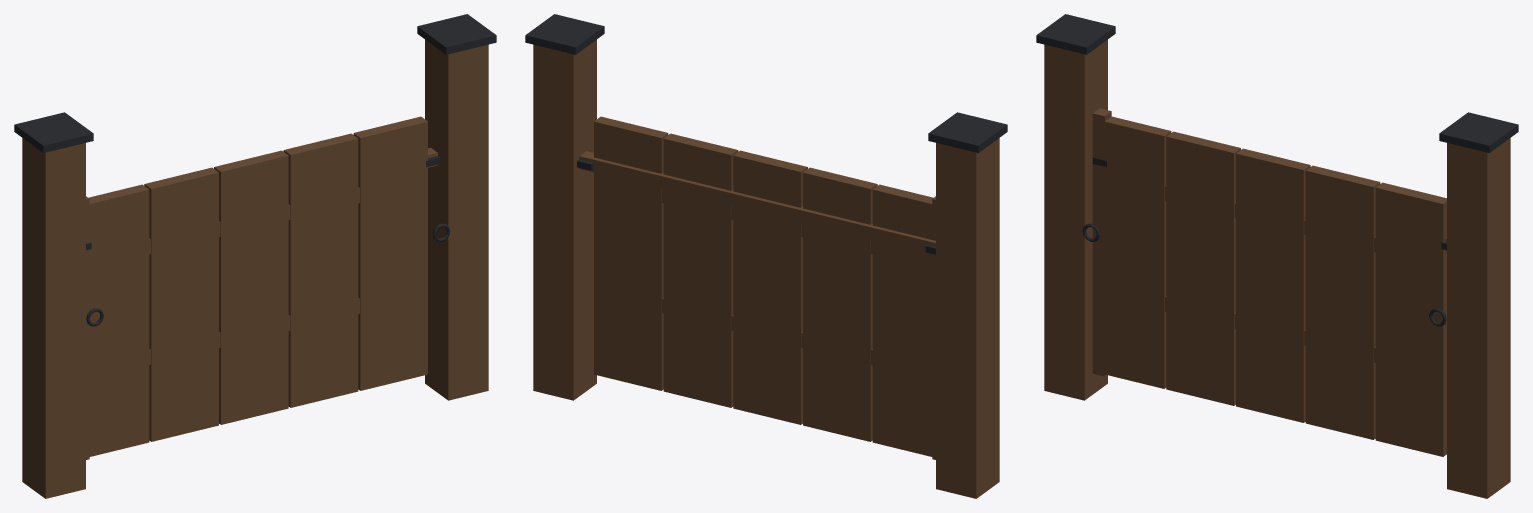
The model's file is SM_Fence_KeepPalisade_03_Gate.glb.
The picture shows the model from 3 angles, left to right: view 1: azimuth 30°, elevation 25°; view 2: azimuth 150°, elevation 25°; view 3: azimuth 330°, elevation 25°; orthographic projection.
Visible parts, largest first — view 1: SM_Fence_KeepPalisade_03_Gate_PostHinge, SM_Fence_KeepPalisade_03_Gate_PostLatch, SM_Fence_KeepPalisade_03_Gate_Leaf_Plank3, SM_Fence_KeepPalisade_03_Gate_Leaf_Plank2, SM_Fence_KeepPalisade_03_Gate_Leaf_Plank1, SM_Fence_KeepPalisade_03_Gate_Leaf_Plank4, SM_Fence_KeepPalisade_03_Gate_Leaf_Plank0, SM_Fence_KeepPalisade_03_Gate_PostLatch_Cap, SM_Fence_KeepPalisade_03_Gate_PostHinge_Cap, SM_Fence_KeepPalisade_03_Gate_Leaf; view 2: SM_Fence_KeepPalisade_03_Gate_PostHinge, SM_Fence_KeepPalisade_03_Gate_PostLatch, SM_Fence_KeepPalisade_03_Gate_Leaf_Plank3, SM_Fence_KeepPalisade_03_Gate_Leaf_Plank2, SM_Fence_KeepPalisade_03_Gate_Leaf_Plank1, SM_Fence_KeepPalisade_03_Gate_Leaf_Plank4, SM_Fence_KeepPalisade_03_Gate_Leaf_Plank0, SM_Fence_KeepPalisade_03_Gate_DropBar, SM_Fence_KeepPalisade_03_Gate_PostLatch_Cap, SM_Fence_KeepPalisade_03_Gate_PostHinge_Cap; view 3: SM_Fence_KeepPalisade_03_Gate_PostLatch, SM_Fence_KeepPalisade_03_Gate_Leaf_Plank4, SM_Fence_KeepPalisade_03_Gate_Leaf_Plank3, SM_Fence_KeepPalisade_03_Gate_Leaf_Plank1, SM_Fence_KeepPalisade_03_Gate_Leaf_Plank2, SM_Fence_KeepPalisade_03_Gate_PostHinge, SM_Fence_KeepPalisade_03_Gate_Leaf_Plank0, SM_Fence_KeepPalisade_03_Gate_Leaf, SM_Fence_KeepPalisade_03_Gate_PostHinge_Cap, SM_Fence_KeepPalisade_03_Gate_PostLatch_Cap.
Boxes of the visible parts, <box> form: SM_Fence_KeepPalisade_03_Gate_PostHinge: <box>22,138,85,498</box>; SM_Fence_KeepPalisade_03_Gate_PostLatch: <box>425,39,488,400</box>; SM_Fence_KeepPalisade_03_Gate_Leaf_Plank3: <box>283,133,358,407</box>; SM_Fence_KeepPalisade_03_Gate_Leaf_Plank2: <box>214,150,288,424</box>; SM_Fence_KeepPalisade_03_Gate_Leaf_Plank1: <box>144,167,218,441</box>; SM_Fence_KeepPalisade_03_Gate_Leaf_Plank4: <box>353,116,427,390</box>; SM_Fence_KeepPalisade_03_Gate_Leaf_Plank0: <box>86,184,149,456</box>; SM_Fence_KeepPalisade_03_Gate_PostLatch_Cap: <box>417,14,496,54</box>; SM_Fence_KeepPalisade_03_Gate_PostHinge_Cap: <box>14,112,93,152</box>; SM_Fence_KeepPalisade_03_Gate_Leaf: <box>86,196,89,459</box>; SM_Fence_KeepPalisade_03_Gate_PostHinge: <box>936,138,999,498</box>; SM_Fence_KeepPalisade_03_Gate_PostLatch: <box>533,39,596,400</box>; SM_Fence_KeepPalisade_03_Gate_Leaf_Plank3: <box>663,133,738,407</box>; SM_Fence_KeepPalisade_03_Gate_Leaf_Plank2: <box>733,150,807,424</box>; SM_Fence_KeepPalisade_03_Gate_Leaf_Plank1: <box>803,167,877,441</box>; SM_Fence_KeepPalisade_03_Gate_Leaf_Plank4: <box>594,116,668,390</box>; SM_Fence_KeepPalisade_03_Gate_Leaf_Plank0: <box>872,184,935,457</box>; SM_Fence_KeepPalisade_03_Gate_DropBar: <box>579,151,935,255</box>; SM_Fence_KeepPalisade_03_Gate_PostLatch_Cap: <box>525,14,604,54</box>; SM_Fence_KeepPalisade_03_Gate_PostHinge_Cap: <box>928,112,1007,152</box>; SM_Fence_KeepPalisade_03_Gate_PostLatch: <box>1447,138,1510,498</box>; SM_Fence_KeepPalisade_03_Gate_Leaf_Plank4: <box>1375,182,1446,456</box>; SM_Fence_KeepPalisade_03_Gate_Leaf_Plank3: <box>1305,165,1380,439</box>; SM_Fence_KeepPalisade_03_Gate_Leaf_Plank1: <box>1166,131,1240,405</box>; SM_Fence_KeepPalisade_03_Gate_Leaf_Plank2: <box>1236,148,1310,422</box>; SM_Fence_KeepPalisade_03_Gate_PostHinge: <box>1044,39,1107,400</box>; SM_Fence_KeepPalisade_03_Gate_Leaf_Plank0: <box>1096,116,1171,388</box>; SM_Fence_KeepPalisade_03_Gate_Leaf: <box>1092,108,1111,376</box>; SM_Fence_KeepPalisade_03_Gate_PostHinge_Cap: <box>1036,14,1115,54</box>; SM_Fence_KeepPalisade_03_Gate_PostLatch_Cap: <box>1439,112,1518,152</box>.
Size of the model in its own units: 2.25 by 1.69 by 0.25.
